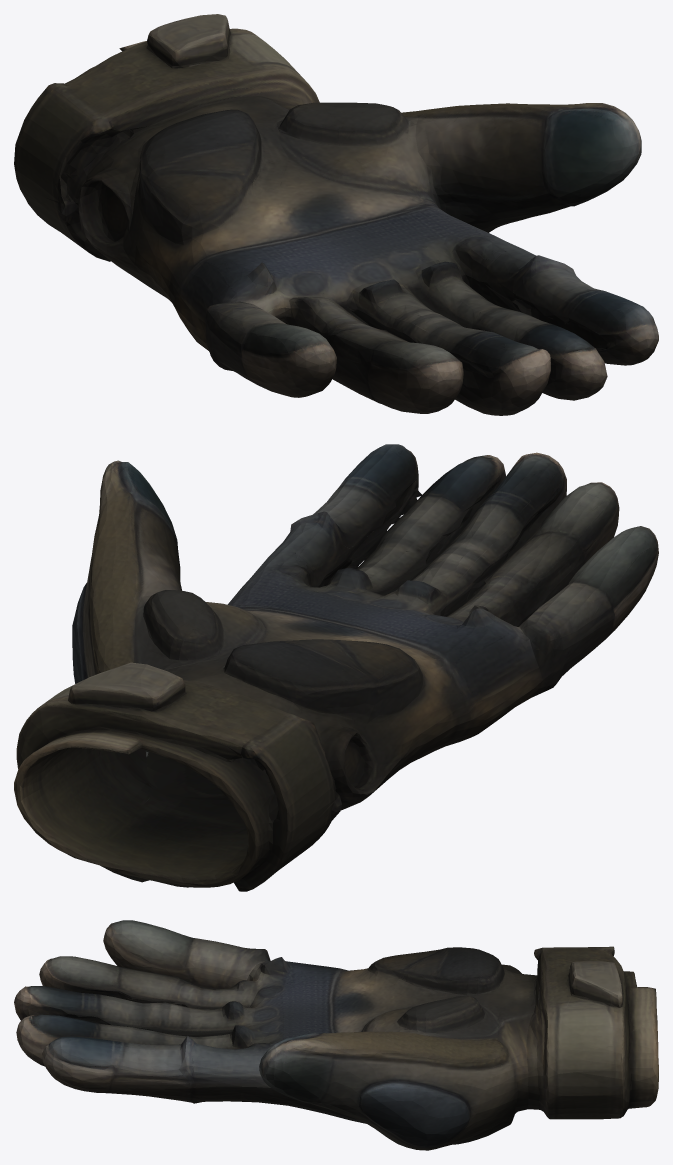
Rendered from L hand.glb.
3 views of the same model, one above another, from view 1: azimuth 30°, elevation 25°; view 2: azimuth 150°, elevation 25°; view 3: azimuth 270°, elevation 25° (orthographic). The views are drawn at different scales.
Visible parts, largest first — view 1: world; view 2: world; view 3: world.
Part boxes in pixels (x1,y1,x2,y2): world: [14, 14, 658, 415]; world: [14, 444, 658, 891]; world: [14, 920, 658, 1150].
Bounding box in the file's own units: 0.6171 × 0.2947 × 0.9966.
1 material, 1 textured.
